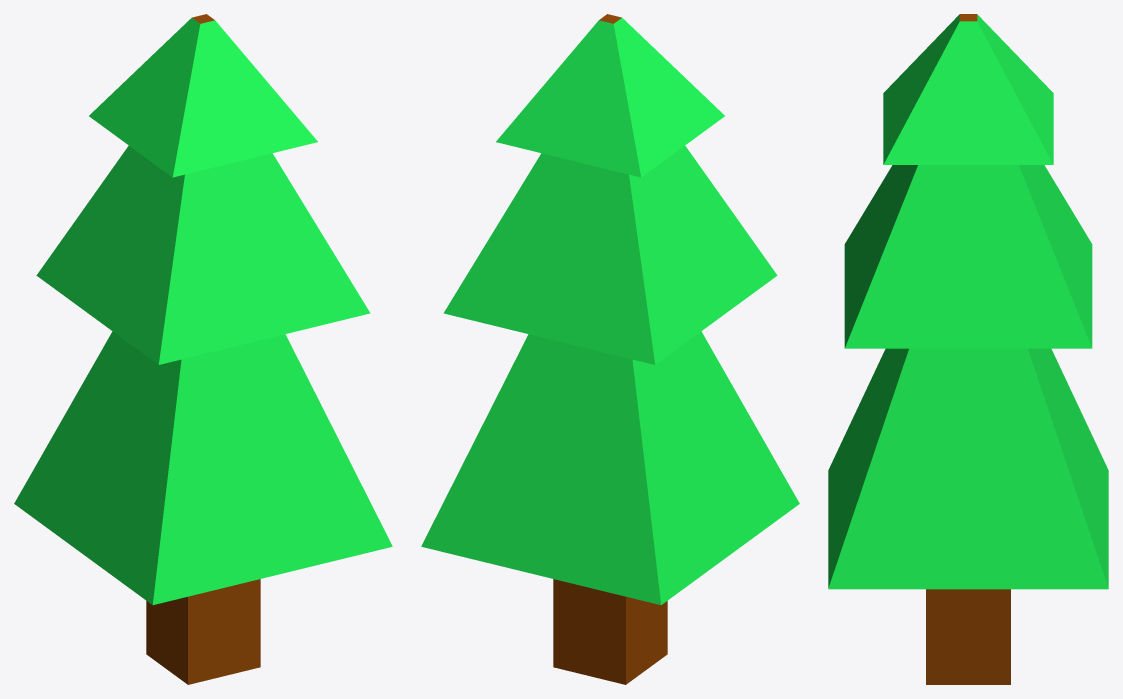
Rendered from elka3.fbx.
3 renders of one model, left to right at view 1: azimuth 30°, elevation 25°; view 2: azimuth 150°, elevation 25°; view 3: azimuth 270°, elevation 25°, orthographic.
Parts seen in each view (by area): view 1: elka.003; view 2: elka.003; view 3: elka.003.
Boxes of the visible parts, left/top/right/bottom form: elka.003: left=14, top=14, right=392, bottom=684; elka.003: left=421, top=14, right=799, bottom=684; elka.003: left=828, top=14, right=1108, bottom=684.
Size of the model in its own units: 101 by 258 by 101.
